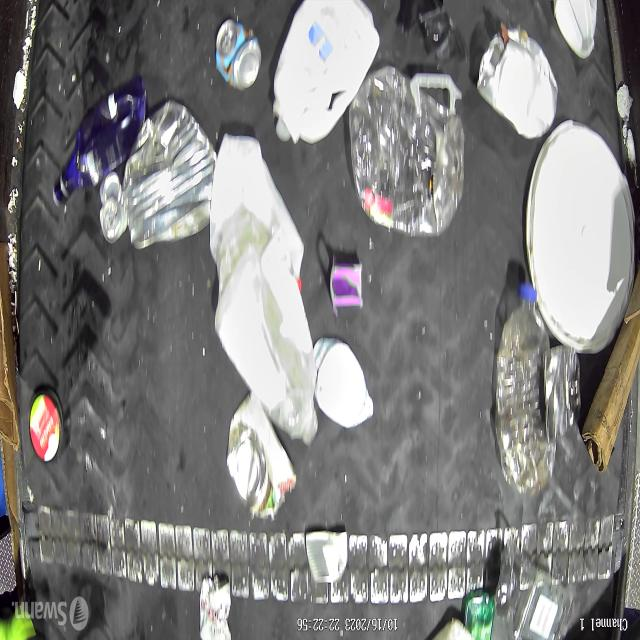can: (118, 104, 216, 247), (226, 391, 297, 518), (543, 346, 582, 446), (213, 17, 261, 94), (304, 530, 349, 583), (97, 169, 129, 243)
milk_jug: (214, 246, 318, 446), (210, 134, 304, 302), (273, 0, 380, 147)
plastic_bottle: (348, 65, 466, 239), (495, 283, 556, 496)
